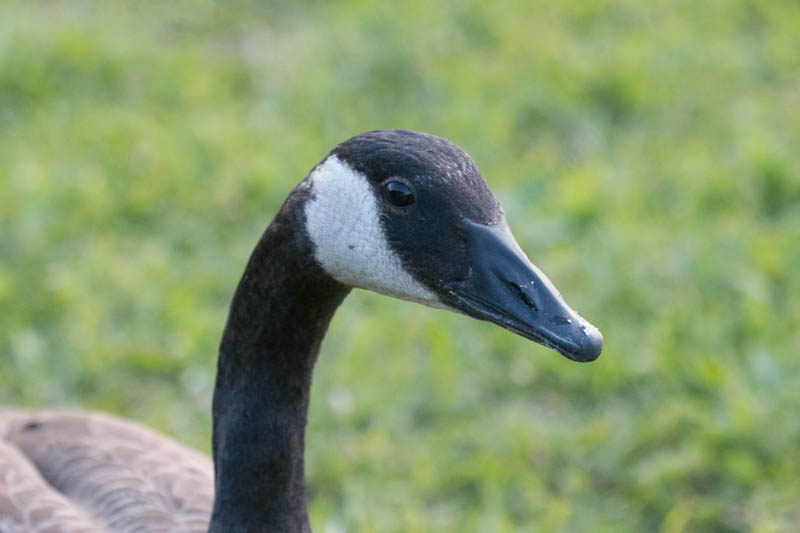goose-head: (286, 126, 603, 362)
